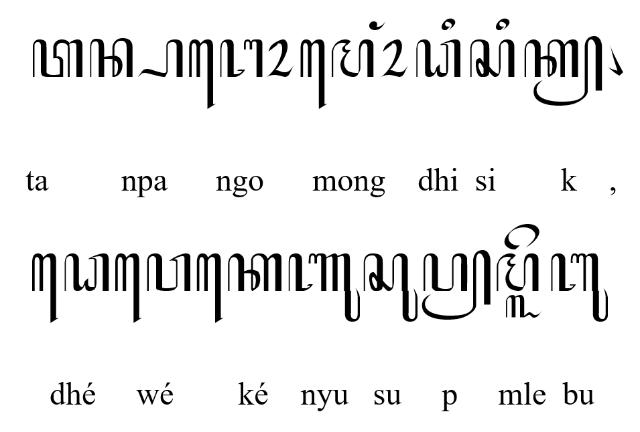-k: (524, 36, 604, 106)
-p: (422, 250, 491, 320)
_l: (506, 296, 542, 320)
_p: (138, 39, 184, 77)
bu: (550, 254, 608, 322)
dh: (416, 38, 462, 78), (64, 254, 110, 292)
e: (504, 224, 540, 250)
e1: (188, 38, 216, 110), (196, 254, 224, 324), (115, 254, 142, 324), (300, 38, 326, 110), (32, 254, 58, 324)
i: (442, 18, 456, 30), (496, 18, 510, 30)
k: (228, 254, 282, 292)
kom: (608, 44, 624, 76)
m: (495, 254, 539, 292), (331, 39, 374, 77)
n: (90, 38, 134, 78)
ng: (368, 21, 386, 31)
nga: (219, 38, 263, 78)
nyu1: (288, 253, 360, 323)
o: (266, 38, 294, 78), (380, 38, 408, 78)
s: (470, 39, 516, 77)
su: (364, 253, 418, 323)
t: (33, 38, 83, 78)
w: (146, 253, 192, 293)
